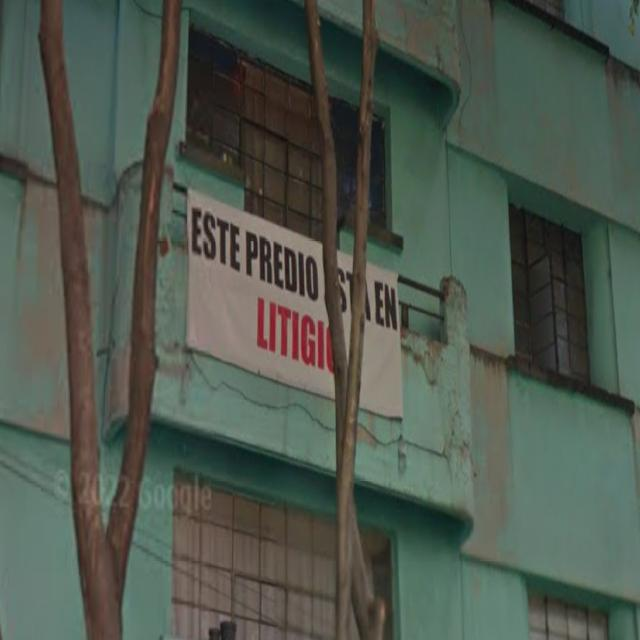stamps: (188, 193, 399, 417)
